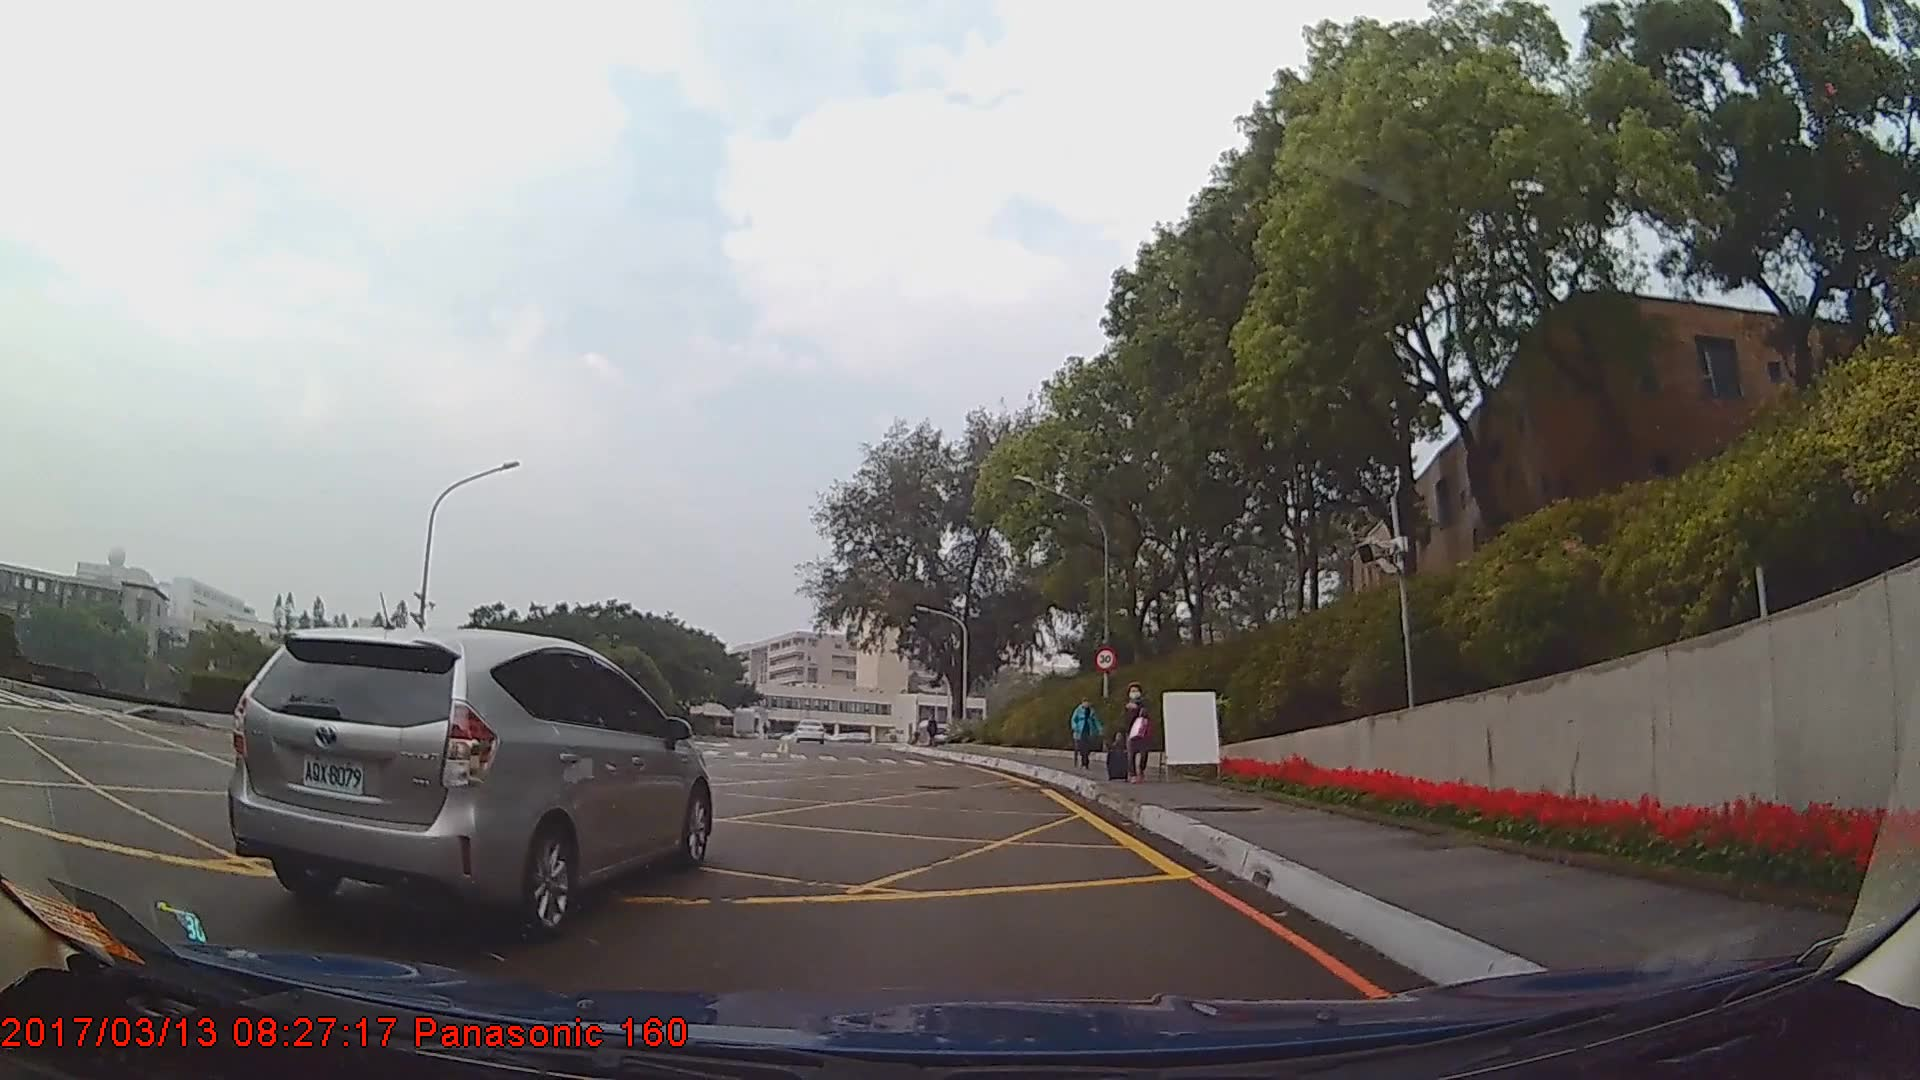pedestrian: (1112, 681, 1161, 781), (1073, 694, 1102, 772)
vehicle: (222, 625, 713, 940), (793, 715, 827, 742)
